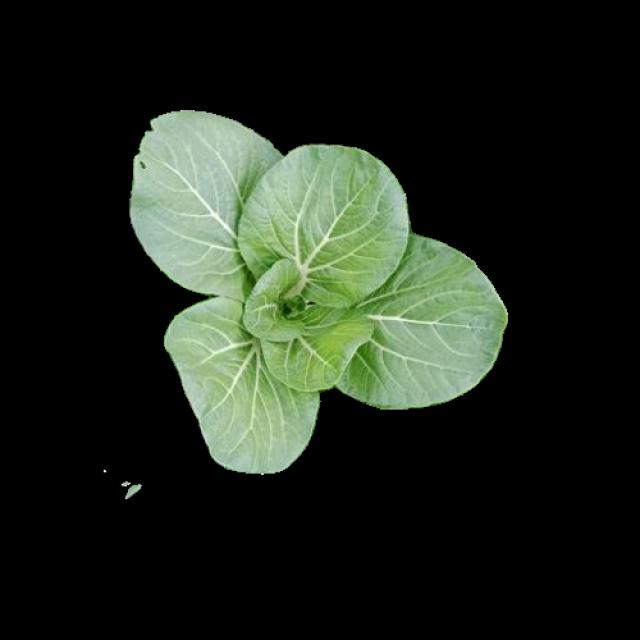mature: (130, 112, 504, 470)
unhealthy: (132, 115, 282, 296)
